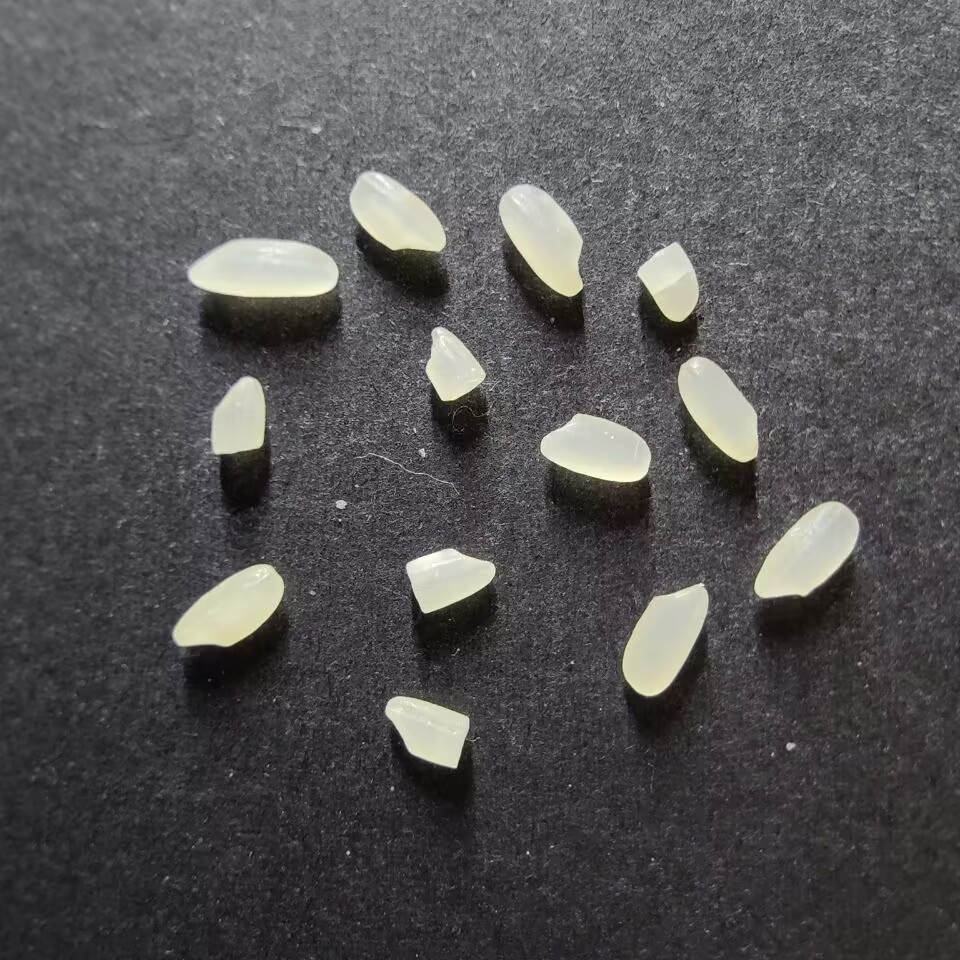broken: (384, 695, 469, 769), (404, 547, 496, 613), (636, 241, 699, 322), (424, 326, 486, 402), (210, 376, 266, 456)
rice: (753, 500, 859, 598), (621, 583, 709, 697), (171, 562, 285, 648), (498, 184, 583, 297), (186, 238, 338, 298), (676, 356, 759, 462), (538, 412, 651, 483), (349, 171, 446, 253)
